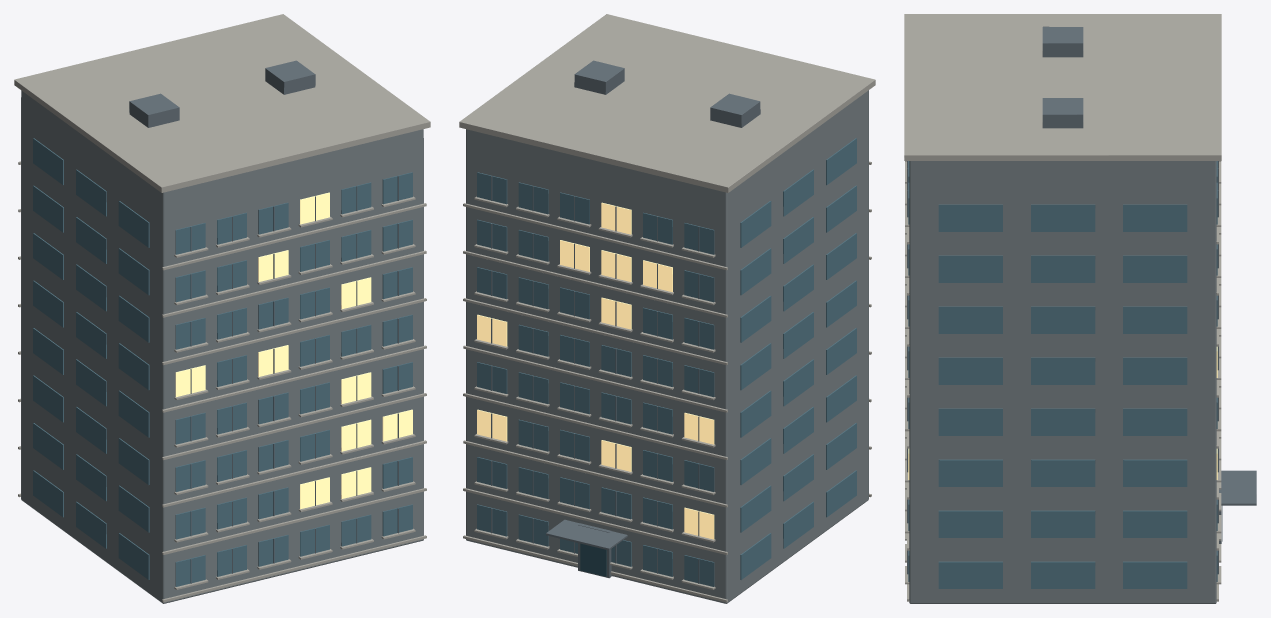
File: OfficeMid.fbx
The picture shows the model from 3 angles, left to right: view 1: azimuth 30°, elevation 25°; view 2: azimuth 150°, elevation 25°; view 3: azimuth 270°, elevation 25°; orthographic projection. The views are drawn at different scales.
Visible parts, largest first — view 1: OfficeMid_LOD; view 2: OfficeMid_LOD; view 3: OfficeMid_LOD.
Boxes of the visible parts, bbox=[...] form: OfficeMid_LOD: bbox=[14, 14, 430, 603]; OfficeMid_LOD: bbox=[459, 14, 875, 603]; OfficeMid_LOD: bbox=[904, 14, 1256, 603].
Bounding box in the file's own units: 19.59 × 30.09 × 20.64.
